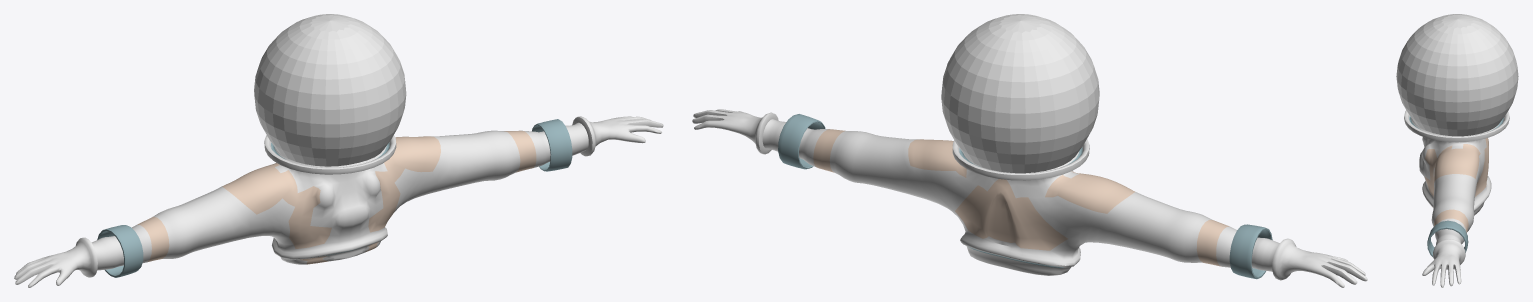
The model's file is chaos_character_hand.fbx.
3 views of the same model, side by side, from view 1: azimuth 30°, elevation 25°; view 2: azimuth 150°, elevation 25°; view 3: azimuth 270°, elevation 25° (orthographic). The views are drawn at different scales.
Visible parts, largest first — view 1: glove, helmet; view 2: glove, helmet; view 3: helmet, glove.
Part boxes in pixels (x1,y1,x2,y2): glove: [14, 116, 663, 287]; helmet: [254, 14, 406, 166]; glove: [692, 109, 1367, 287]; helmet: [941, 14, 1099, 173]; helmet: [1396, 14, 1518, 136]; glove: [1404, 110, 1509, 287].
Size of the model in its own units: 198 by 67.4 by 40.46.
